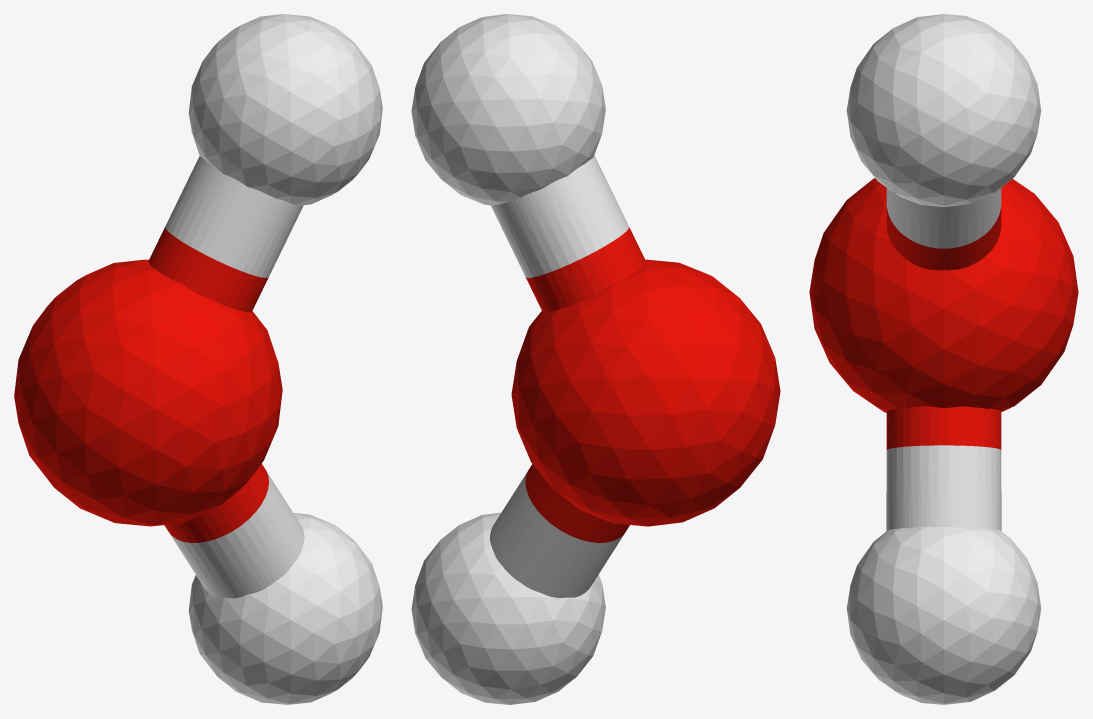
3 renders of one model, left to right at view 1: azimuth 30°, elevation 25°; view 2: azimuth 150°, elevation 25°; view 3: azimuth 270°, elevation 25°, orthographic.
Visible parts, largest first — view 1: Shape_IndexedFaceSet.001, Shape_IndexedFaceSet, Shape_IndexedFaceSet.002, Shape_IndexedFaceSet.008, Shape_IndexedFaceSet.005, Shape_IndexedFaceSet.007, Shape_IndexedFaceSet.003; view 2: Shape_IndexedFaceSet.001, Shape_IndexedFaceSet, Shape_IndexedFaceSet.002, Shape_IndexedFaceSet.008, Shape_IndexedFaceSet.005, Shape_IndexedFaceSet.007, Shape_IndexedFaceSet.003; view 3: Shape_IndexedFaceSet.001, Shape_IndexedFaceSet, Shape_IndexedFaceSet.002, Shape_IndexedFaceSet.005, Shape_IndexedFaceSet.003, Shape_IndexedFaceSet.008, Shape_IndexedFaceSet.007.
Boxes of the visible parts, <box> form: Shape_IndexedFaceSet.001: <box>14,259,282,526</box>; Shape_IndexedFaceSet: <box>188,14,382,205</box>; Shape_IndexedFaceSet.002: <box>188,513,382,704</box>; Shape_IndexedFaceSet.008: <box>165,156,303,277</box>; Shape_IndexedFaceSet.005: <box>169,472,304,598</box>; Shape_IndexedFaceSet.007: <box>148,227,268,312</box>; Shape_IndexedFaceSet.003: <box>164,463,268,542</box>; Shape_IndexedFaceSet.001: <box>511,259,780,526</box>; Shape_IndexedFaceSet: <box>411,14,605,205</box>; Shape_IndexedFaceSet.002: <box>411,512,605,704</box>; Shape_IndexedFaceSet.008: <box>491,155,628,277</box>; Shape_IndexedFaceSet.005: <box>490,471,625,597</box>; Shape_IndexedFaceSet.007: <box>525,227,645,312</box>; Shape_IndexedFaceSet.003: <box>525,464,629,542</box>; Shape_IndexedFaceSet.001: <box>809,178,1078,412</box>; Shape_IndexedFaceSet: <box>846,14,1041,206</box>; Shape_IndexedFaceSet.002: <box>846,526,1041,704</box>; Shape_IndexedFaceSet.005: <box>886,445,1001,531</box>; Shape_IndexedFaceSet.003: <box>886,406,1001,449</box>; Shape_IndexedFaceSet.008: <box>886,188,1001,248</box>; Shape_IndexedFaceSet.007: <box>886,207,1001,270</box>.
Bounding box in the file's own units: 0.5627 × 1.07 × 0.3879.
